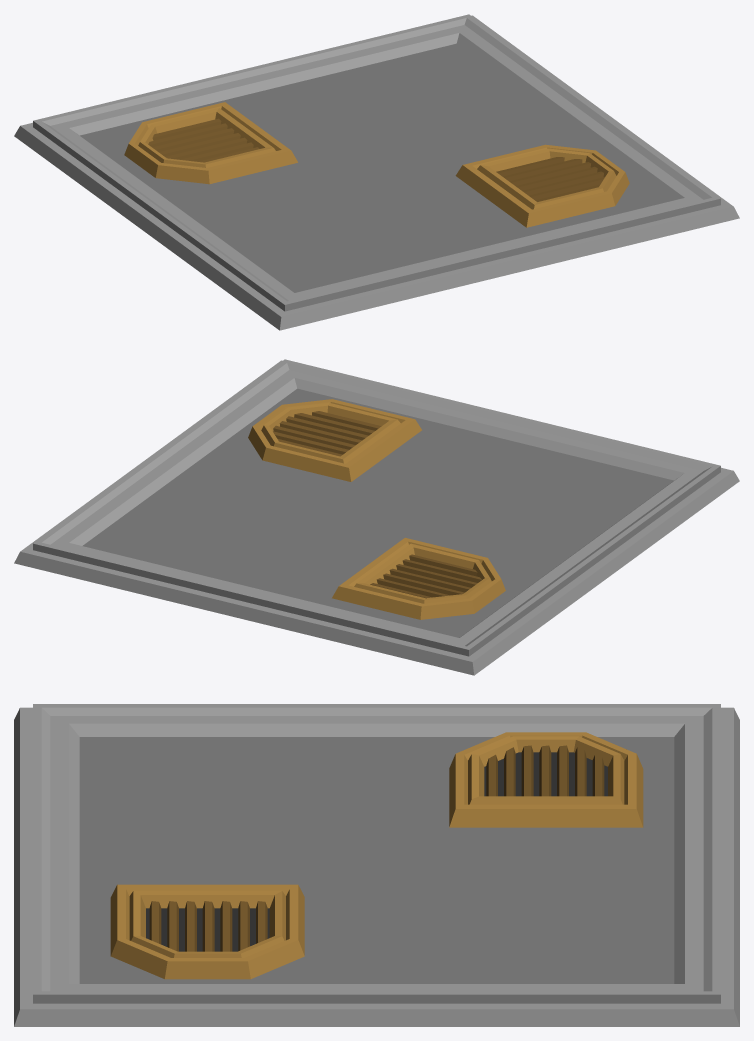
Rendered from RoofTile_SmallVents.glb.
3 views of the same model, one above another, from view 1: azimuth 30°, elevation 25°; view 2: azimuth 150°, elevation 25°; view 3: azimuth 270°, elevation 25° (orthographic). The views are drawn at different scales.
Visible parts, largest first — view 1: RoofTile_SmallVents; view 2: RoofTile_SmallVents; view 3: RoofTile_SmallVents.
Boxes of the visible parts, box(x1,y1,x2,y2) form: RoofTile_SmallVents: box(14, 14, 739, 330); RoofTile_SmallVents: box(14, 359, 739, 675); RoofTile_SmallVents: box(14, 704, 739, 1026).
Size of the model in its own units: 0.68 by 0.0308 by 0.68.
